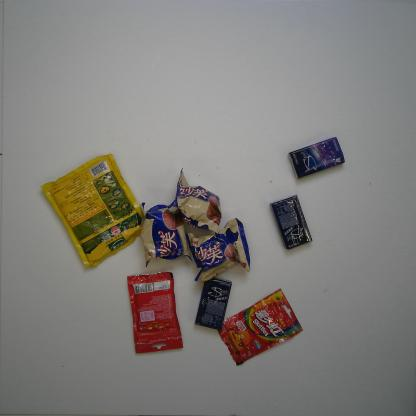Candy: (216, 288, 304, 366), (127, 272, 184, 354)
Dessert: (185, 217, 250, 282), (167, 167, 222, 235), (141, 199, 194, 268)
Gum: (287, 136, 345, 179), (270, 194, 312, 250), (194, 277, 232, 331)
Seasoner: (40, 152, 145, 268)
